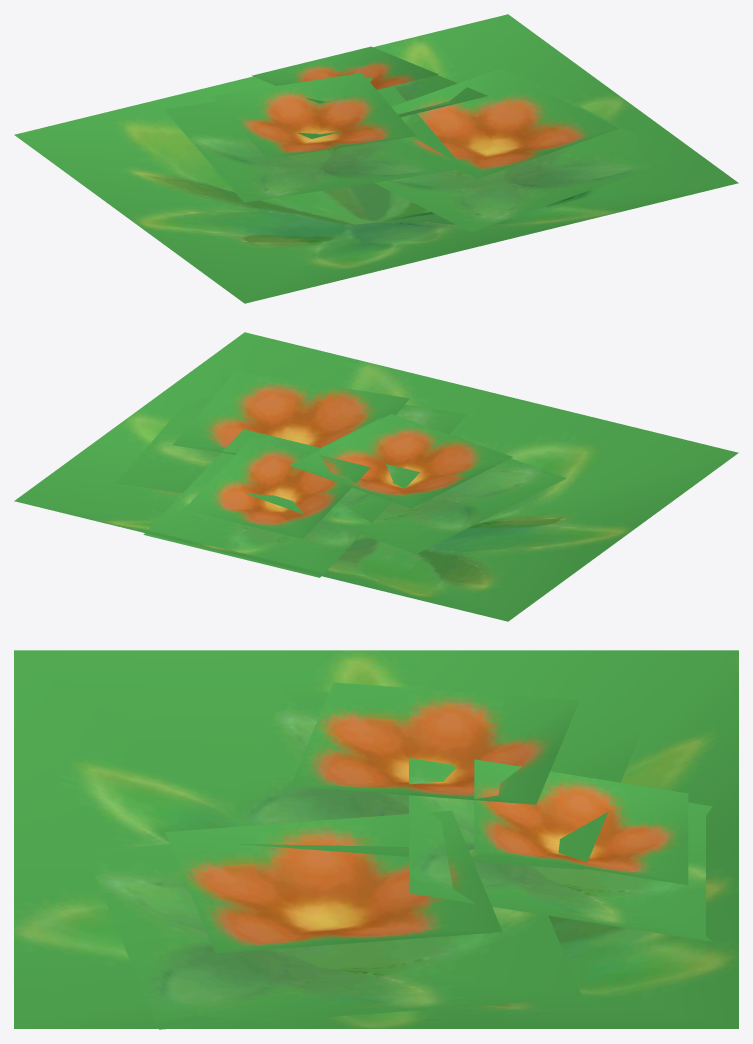
Rendered from 0161_T_ZhenYin_Hua03.glb.
The picture shows the model from 3 angles, top to bottom: view 1: azimuth 30°, elevation 25°; view 2: azimuth 150°, elevation 25°; view 3: azimuth 270°, elevation 25°; orthographic projection. The views are drawn at different scales.
Size of the model in its own units: 2.2 by 0.452 by 1.78.
1 material, 1 textured.
